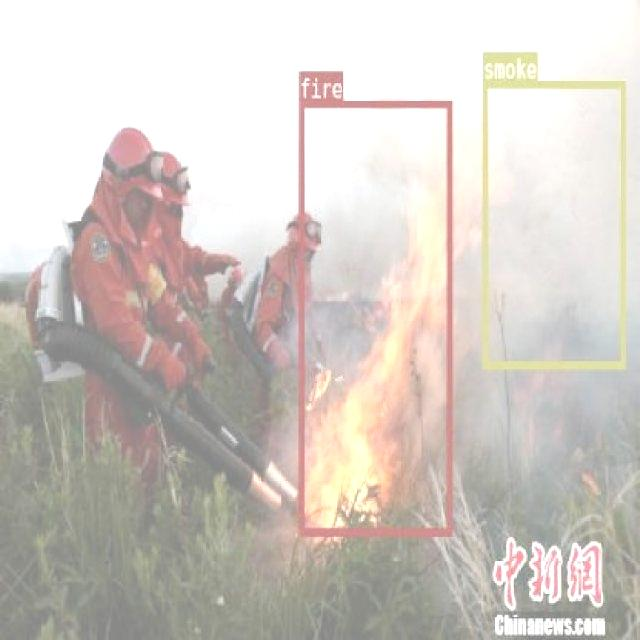fire: (298, 98, 452, 534)
smoke: (482, 79, 624, 368)
